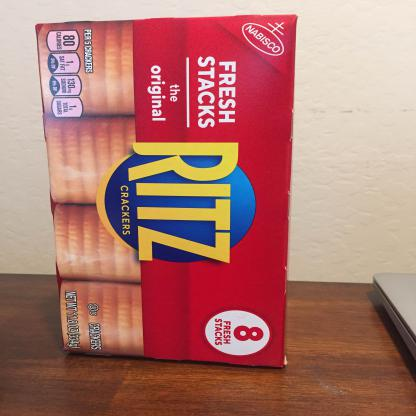RitzBox: (35, 23, 313, 373)
